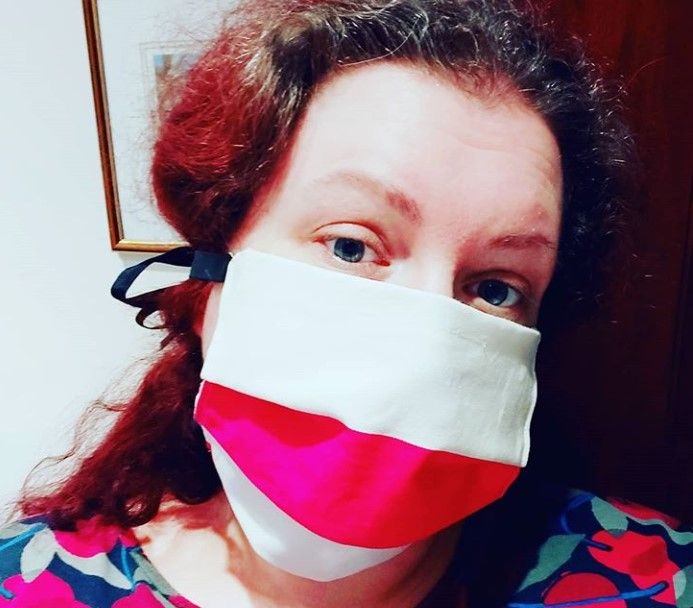face_with_mask: (172, 4, 587, 588)
